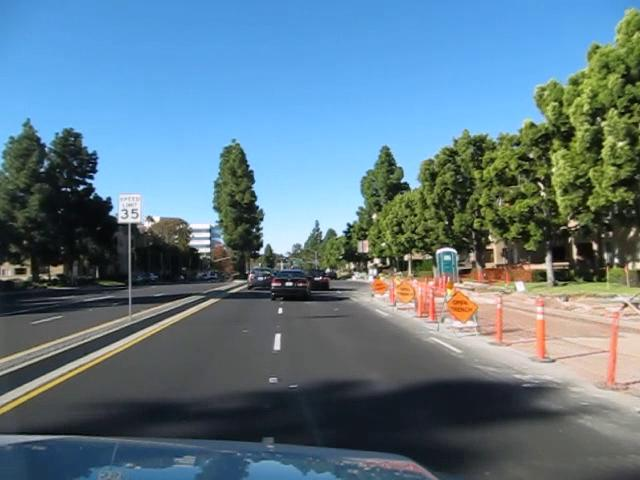speedLimit35: (117, 192, 141, 223)
